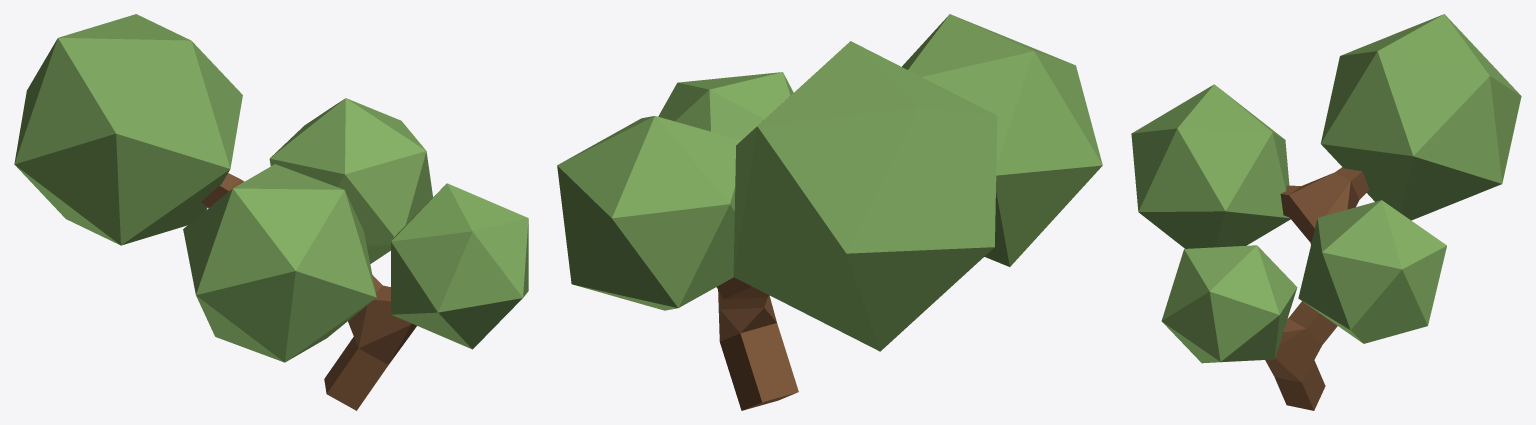
Rendered from Gebirge_Bush_Small.fbx.
3 renders of one model, left to right at view 1: azimuth 30°, elevation 25°; view 2: azimuth 150°, elevation 25°; view 3: azimuth 270°, elevation 25°, orthographic. The views are drawn at different scales.
Parts seen in each view (by area): view 1: Icosphere.024, Icosphere.025, Icosphere.019, Icosphere.023, Cube.007; view 2: Icosphere.024, Icosphere.023, Icosphere.025, Cube.007, Icosphere.019; view 3: Icosphere.024, Icosphere.025, Icosphere.023, Icosphere.019, Cube.007.
Part boxes in pixels (left/top/right/bottom): Icosphere.024: left=14, top=14, right=242, bottom=245; Icosphere.025: left=183, top=164, right=376, bottom=362; Icosphere.019: left=391, top=183, right=528, bottom=349; Icosphere.023: left=269, top=98, right=432, bottom=263; Cube.007: left=201, top=173, right=416, bottom=410; Icosphere.024: left=733, top=41, right=997, bottom=351; Icosphere.023: left=557, top=116, right=741, bottom=310; Icosphere.025: left=902, top=14, right=1102, bottom=266; Cube.007: left=716, top=277, right=798, bottom=410; Icosphere.019: left=658, top=72, right=793, bottom=140; Icosphere.024: left=1320, top=14, right=1521, bottom=220; Icosphere.025: left=1131, top=84, right=1290, bottom=248; Icosphere.023: left=1298, top=200, right=1446, bottom=343; Icosphere.019: left=1161, top=245, right=1297, bottom=363; Cube.007: left=1265, top=167, right=1369, bottom=410.
Size of the model in its own units: 154 by 135 by 155.
